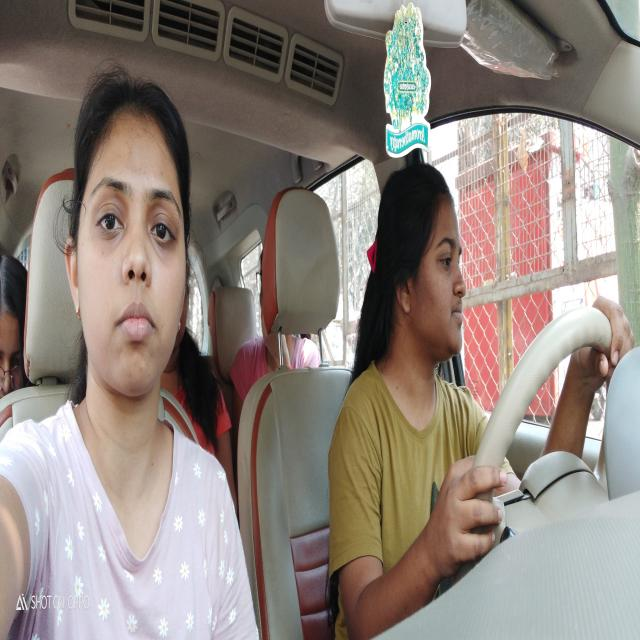person: (62, 51, 194, 426), (374, 152, 471, 376), (1, 241, 37, 412)
